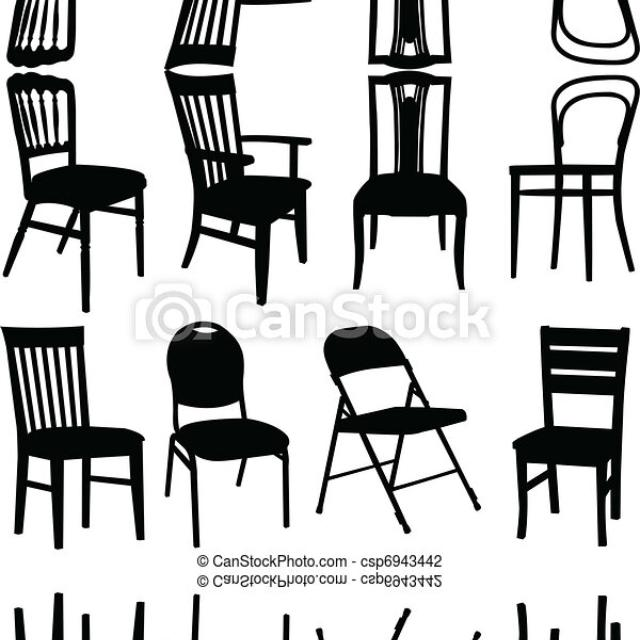obstacle: (153, 70, 324, 312), (316, 304, 490, 540), (4, 304, 154, 570), (160, 301, 308, 549), (3, 70, 147, 318), (504, 302, 640, 558), (493, 71, 640, 294), (351, 69, 484, 297), (153, 0, 324, 68), (4, 570, 154, 640), (3, 0, 147, 68), (493, 0, 640, 66), (350, 0, 483, 69), (504, 582, 639, 640), (160, 592, 308, 640), (316, 601, 490, 640)
